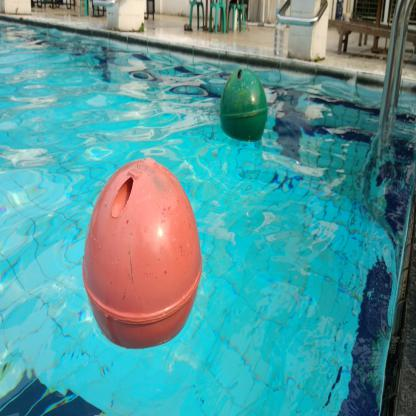green_buoy: (217, 62, 271, 148)
red_buoy: (80, 152, 205, 355)
